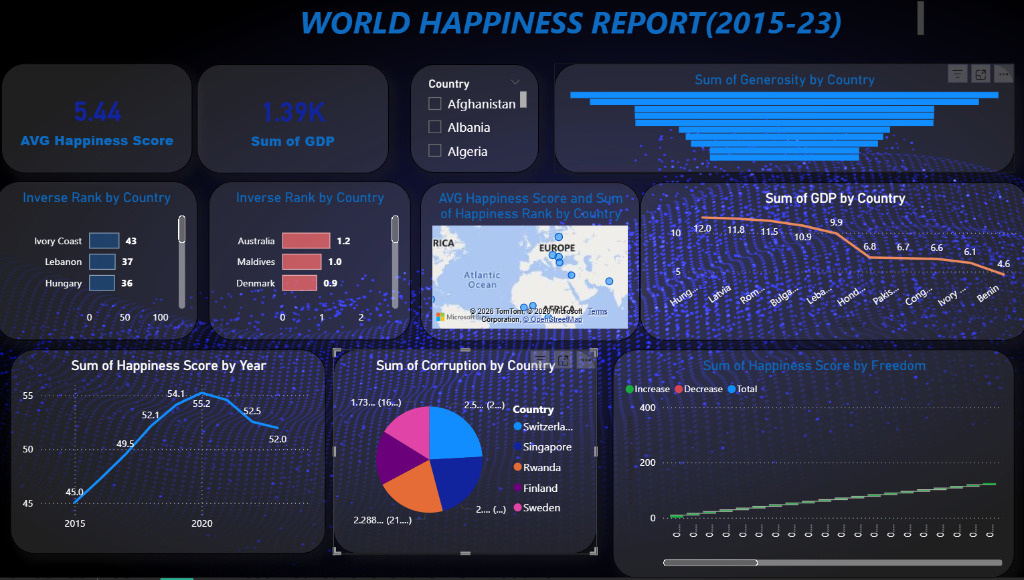

Layout of this report page (visuals, bound fields, positions):
{"tool":"powerbi","page":{"name":"Page 1","canvas":[1280,720],"ordinal":0},"visuals":[{"type":"card","fields":{"Values":["Sheet1.AVG Happiness Score"]},"box":[6.8,81.6,236.7,136.1],"z":0},{"type":"clusteredBarChart","fields":{"Category":["Sheet1.Country"],"Y":["Sheet1.Inverse Rank"]},"box":[0,227.9,250,196.5],"z":1000},{"type":"textbox","box":[280,0,875.7,62.9],"z":2000},{"type":"clusteredBarChart","fields":{"Category":["Sheet1.Country"],"Y":["Sheet1.Inverse Rank"]},"box":[264,227.9,250,196.5],"z":3000},{"type":"map","fields":{"Category":["Sheet1.Country"],"Size":["Sheet1.AVG Happiness Score"]},"box":[526.7,229.1,272.1,196.5],"z":4000},{"type":"card","fields":{"Values":["Sum(Sheet1.GDP)"]},"box":[250,82.6,237.2,134.9],"z":5000},{"type":"slicer","fields":{"Values":["Sheet1.Country"]},"box":[514.3,83,159.2,134.7],"z":6000},{"type":"funnel","fields":{"Category":["Sheet1.Country"],"Y":["Sum(Sheet1.Generosity)"]},"box":[693,82.6,587.2,134.9],"z":7000},{"type":"lineChart","fields":{"Category":["Sheet1.Year"],"Y":["Sum(Sheet1.Happiness Score)"]},"box":[0,437.2,405.8,282.6],"z":8000},{"type":"waterfallChart","fields":{"Category":["Sheet1.Freedom"],"Y":["Sum(Sheet1.Happiness Score)"]},"box":[765.1,437.2,515.1,273.3],"z":9000},{"type":"areaChart","fields":{"Category":["Sheet1.Country"],"Y":["Sum(Sheet1.GDP)"]},"box":[798.6,228.6,481.6,195.9],"z":10000},{"type":"pieChart","fields":{"Y":["Sum(Sheet1.Corruption)"],"Category":["Sheet1.Country"]},"box":[427.9,437.2,329.1,282.6],"z":11000}]}

Visuals, with their boxes in screenshot pixels (x1, y1, x2, y2), scaled from the page's 1280x720 canvas onto the 1024x580 screenshot:
card - Sheet1.AVG Happiness Score: 5 66 195 175
clusteredBarChart - Sheet1.Country x Sheet1.Inverse Rank: 0 184 200 342
textbox: 224 0 925 51
clusteredBarChart - Sheet1.Country x Sheet1.Inverse Rank: 211 184 411 342
map - Sheet1.Country x Sheet1.AVG Happiness Score: 421 185 639 343
card - Sum(Sheet1.GDP): 200 67 390 175
slicer - Sheet1.Country: 411 67 539 175
funnel - Sheet1.Country x Sum(Sheet1.Generosity): 554 67 1023 175
lineChart - Sheet1.Year x Sum(Sheet1.Happiness Score): 0 352 325 579
waterfallChart - Sheet1.Freedom x Sum(Sheet1.Happiness Score): 612 352 1023 572
areaChart - Sheet1.Country x Sum(Sheet1.GDP): 639 184 1023 342
pieChart - Sum(Sheet1.Corruption) x Sheet1.Country: 342 352 606 579
